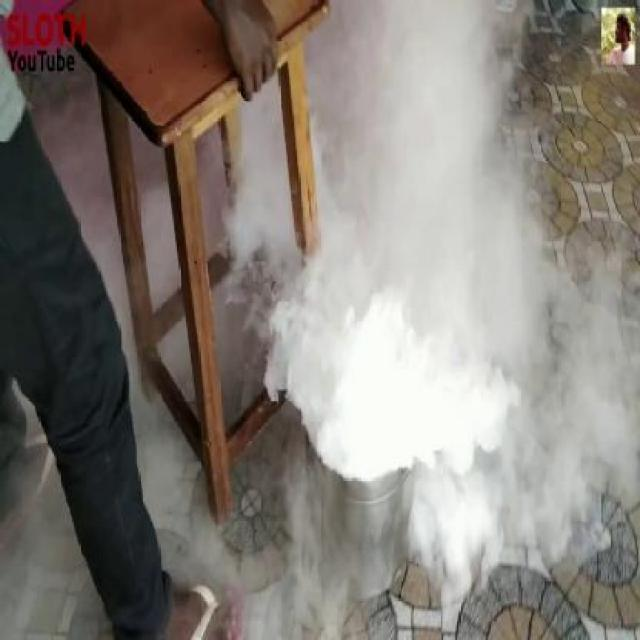smoke: (303, 144, 602, 552)
